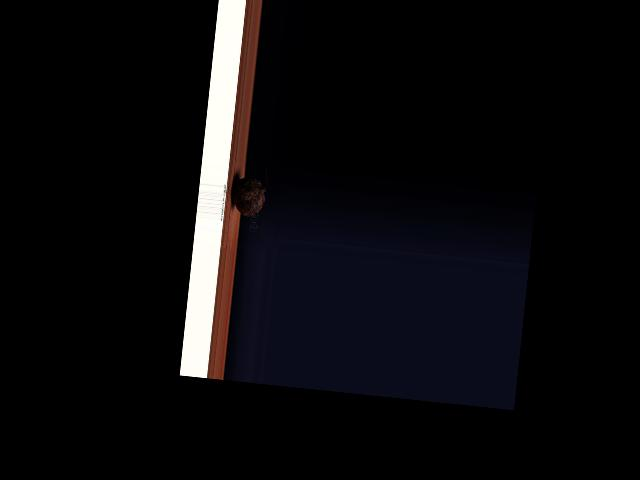beet: (230, 163, 268, 217)
